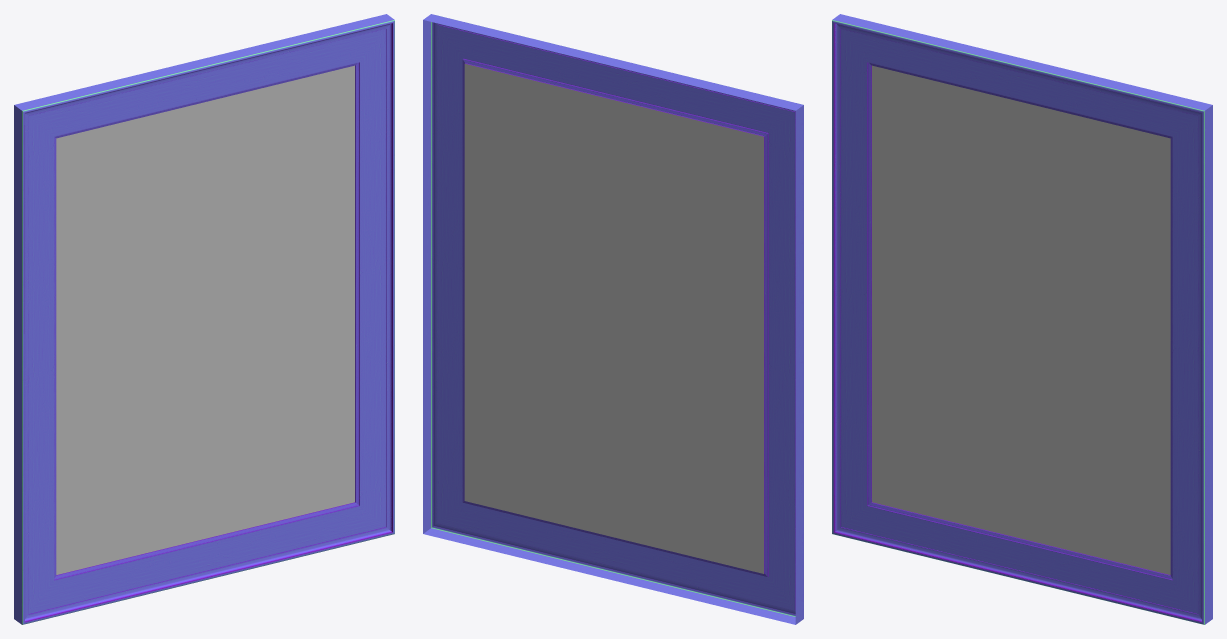
3 renders of one model, left to right at view 1: azimuth 30°, elevation 25°; view 2: azimuth 150°, elevation 25°; view 3: azimuth 330°, elevation 25°, orthographic.
Parts seen in each view (by area): view 1: _14_17, _14_17_frame; view 2: _14_17, _14_17_frame; view 3: _14_17, _14_17_frame.
Part boxes in pixels (x1,y1,x2,y2): _14_17: [56, 65, 354, 574]; _14_17_frame: [14, 14, 394, 624]; _14_17: [464, 64, 763, 573]; _14_17_frame: [423, 14, 803, 624]; _14_17: [872, 65, 1170, 574]; _14_17_frame: [832, 14, 1212, 624].
Size of the model in its own units: 132 by 174 by 5.19.
